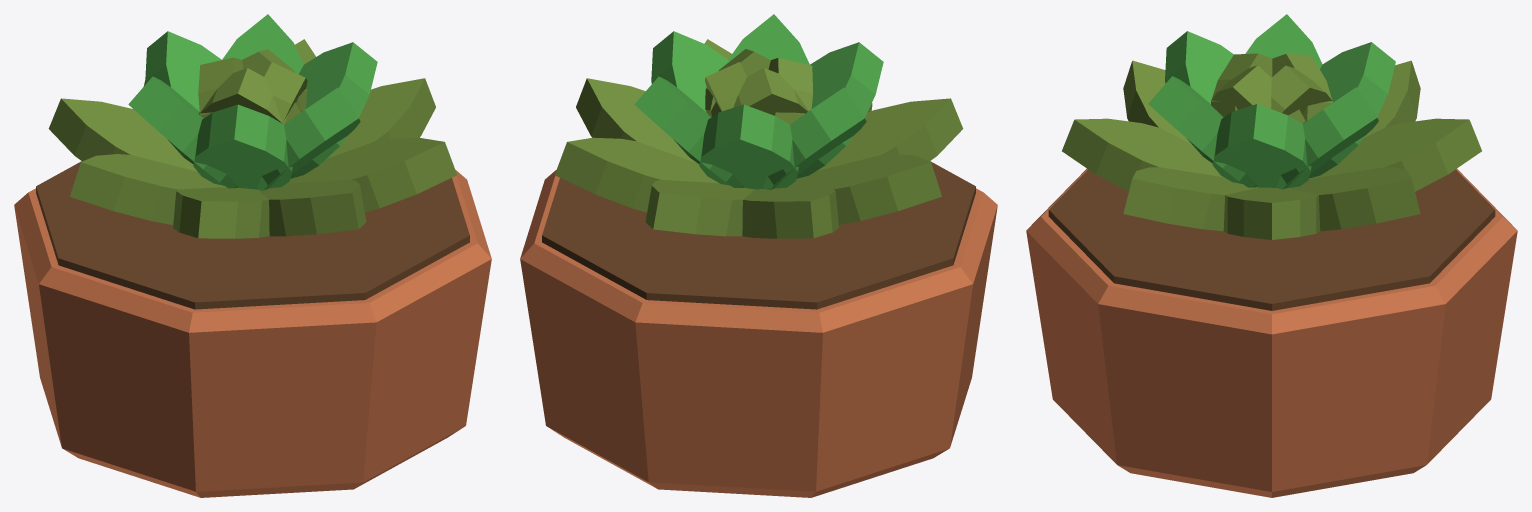
Rendered from Succulent.fbx.
3 renders of one model, left to right at view 1: azimuth 30°, elevation 25°; view 2: azimuth 150°, elevation 25°; view 3: azimuth 270°, elevation 25°, orthographic.
Visible parts, largest first — view 1: Succulent; view 2: Succulent; view 3: Succulent.
Boxes of the visible parts, x1,y1,x2,y2 form: Succulent: (14,14,491,497); Succulent: (520,14,997,497); Succulent: (1026,14,1517,497).
Size of the model in its own units: 1.59 by 1.26 by 1.59.
Materials: 1 (1 with a texture image).
